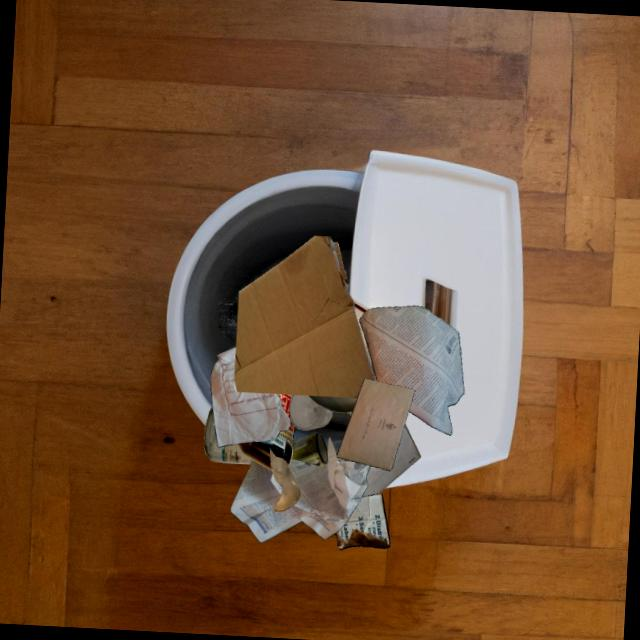cardboard: (234, 236, 375, 398), (335, 494, 390, 550)
combustible waste: (352, 298, 369, 355)
glass: (204, 407, 254, 465), (237, 435, 293, 471), (270, 448, 301, 512), (289, 395, 333, 431), (291, 432, 328, 466), (367, 352, 376, 381)
paper: (230, 437, 370, 543), (359, 306, 464, 435), (210, 347, 290, 447), (336, 379, 415, 471), (362, 423, 421, 497)
plastic: (308, 396, 357, 413)
trash: (277, 394, 295, 444)
